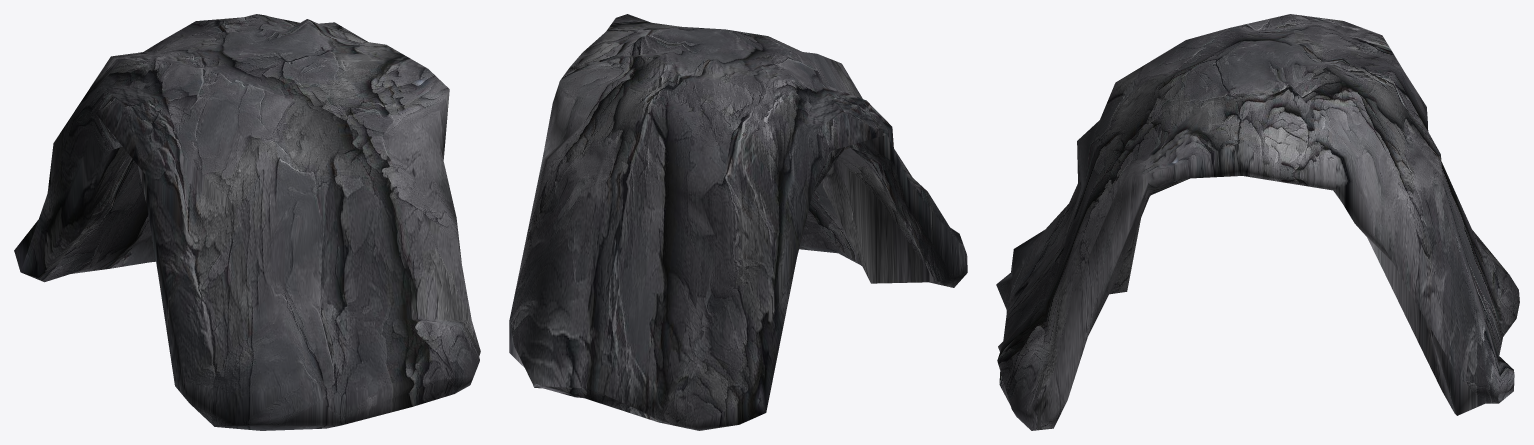
Rendered from Toonel4.fbx.
3 views of the same model, side by side, from view 1: azimuth 30°, elevation 25°; view 2: azimuth 150°, elevation 25°; view 3: azimuth 270°, elevation 25° (orthographic). The views are drawn at different scales.
Parts seen in each view (by area): view 1: Куб.084; view 2: Куб.084; view 3: Куб.084.
Boxes of the visible parts, left/top/right/bottom form: Куб.084: left=14, top=14, right=480, bottom=430; Куб.084: left=509, top=14, right=967, bottom=430; Куб.084: left=996, top=14, right=1519, bottom=430.
Size of the model in its own units: 395 by 373 by 541.
